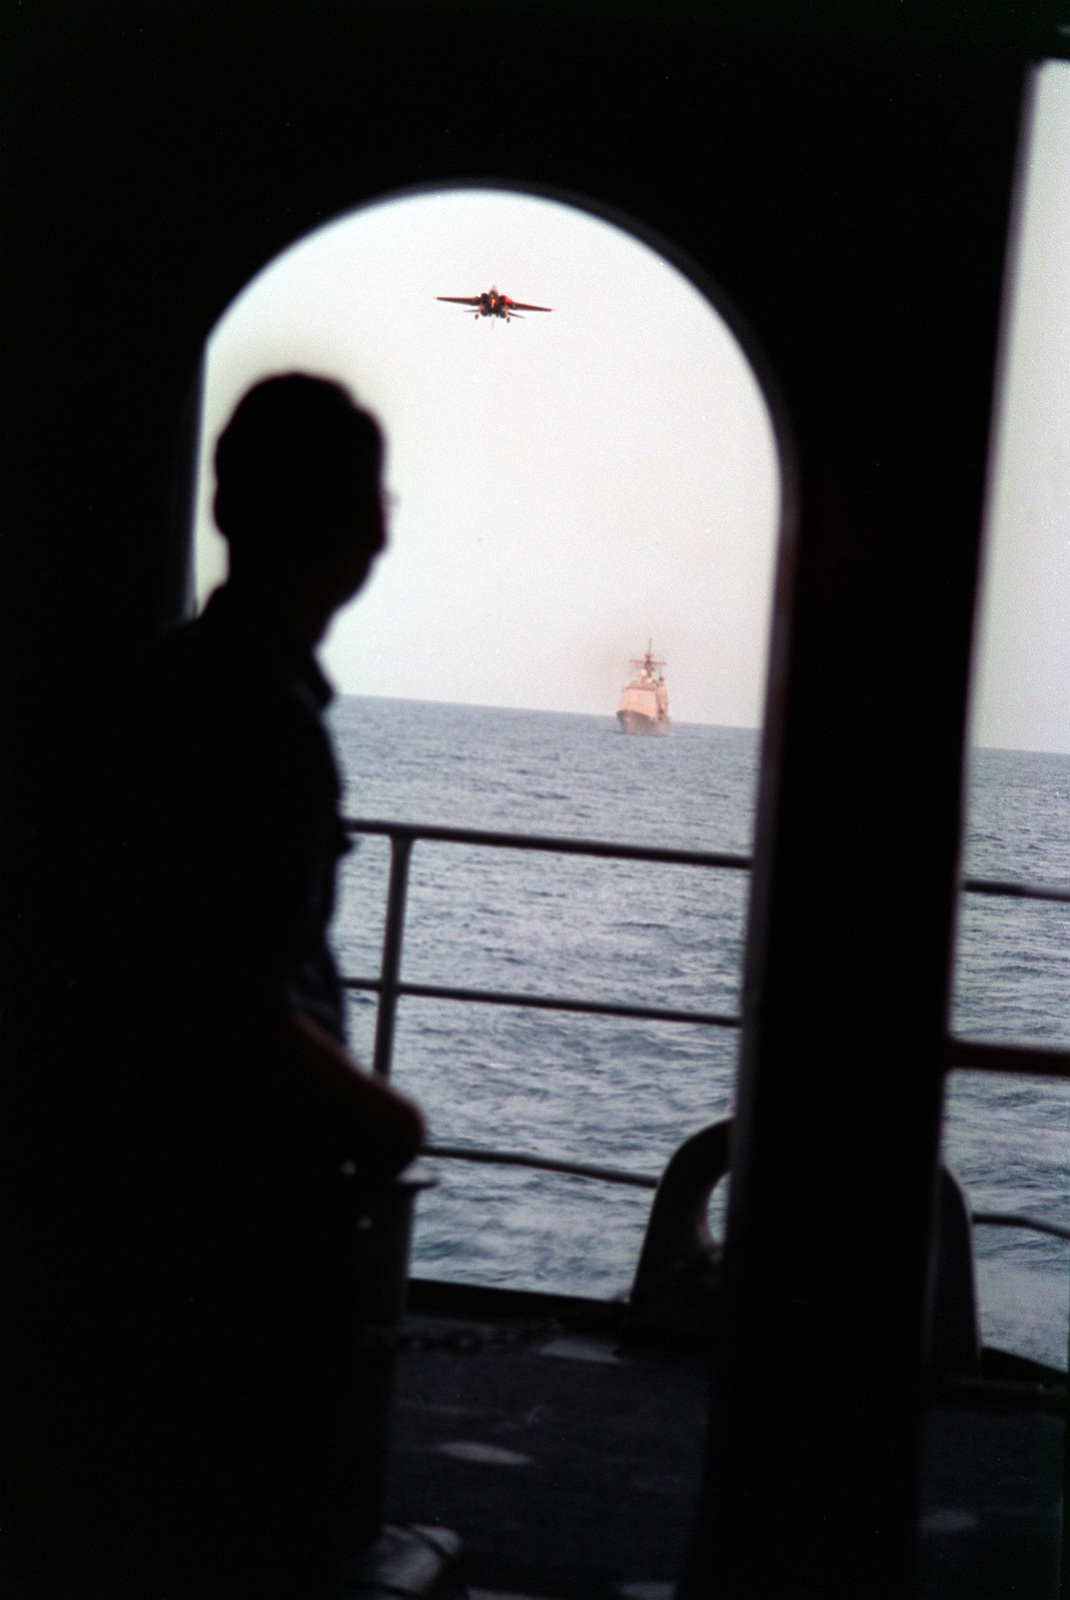F14: (432, 284, 558, 330)
